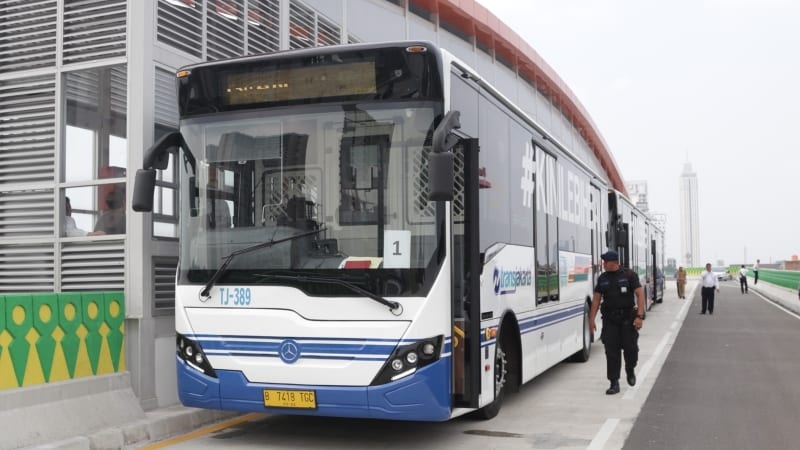plate: (264, 390, 312, 408)
